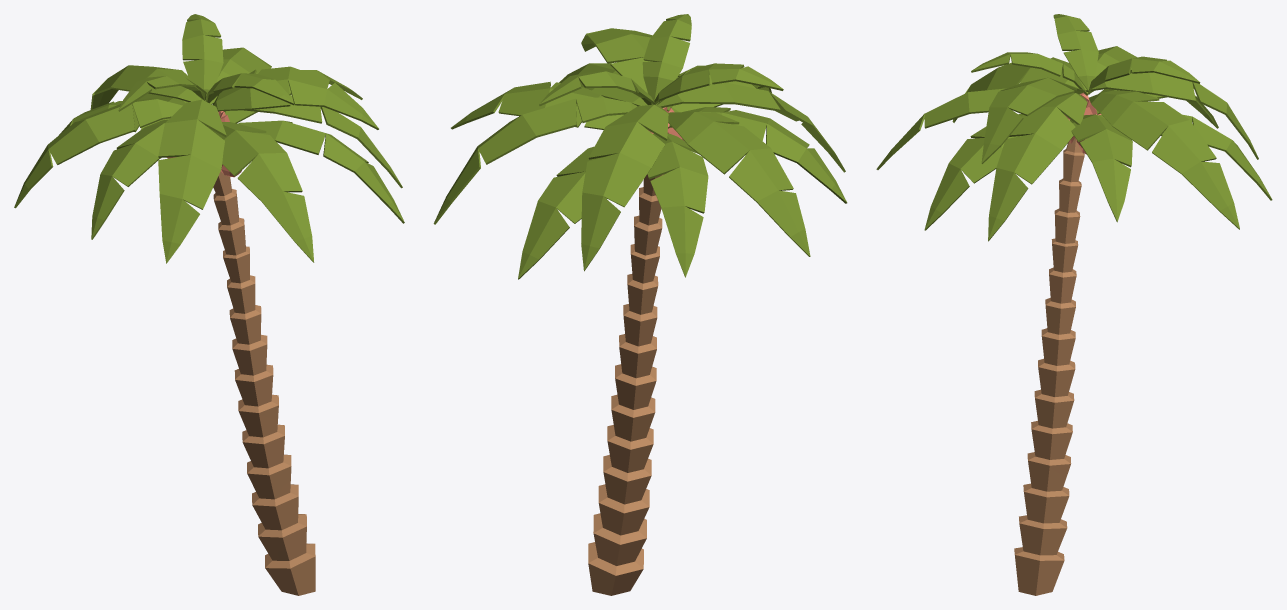
The model's file is Palm_10.fbx.
The picture shows the model from 3 angles, left to right: view 1: azimuth 30°, elevation 25°; view 2: azimuth 150°, elevation 25°; view 3: azimuth 270°, elevation 25°; orthographic projection. The views are drawn at different scales.
Parts seen in each view (by area): view 1: Palm_10.001; view 2: Palm_10.001; view 3: Palm_10.001.
Boxes of the visible parts, x1,y1,x2,y2 form: Palm_10.001: [14, 14, 404, 595]; Palm_10.001: [433, 14, 847, 595]; Palm_10.001: [876, 14, 1272, 595].
Size of the model in its own units: 2.85 by 4.23 by 2.97.
